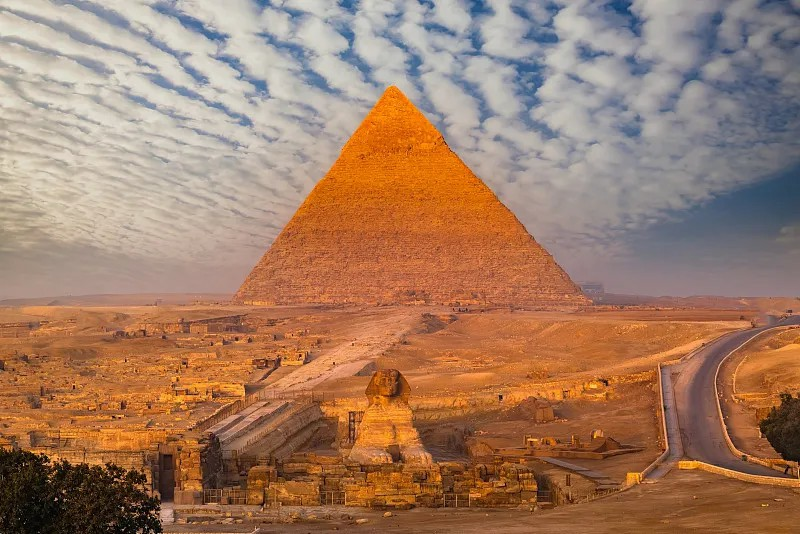Pyramid: (229, 85, 596, 309)
